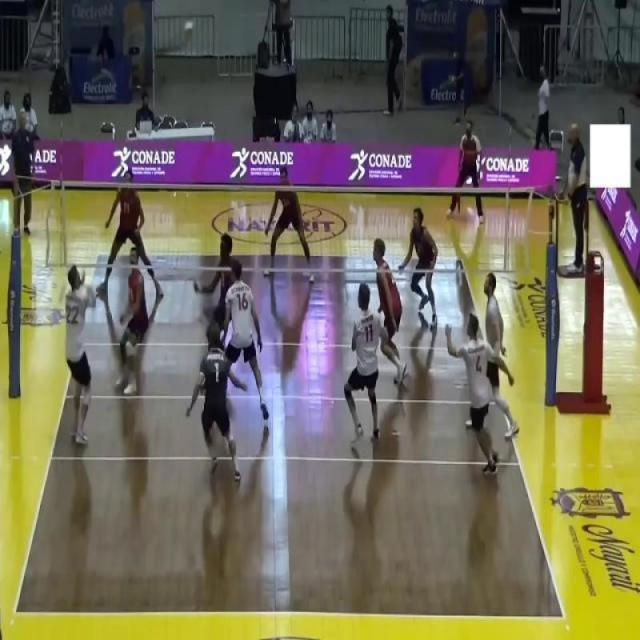volleyball: (183, 20, 196, 44)
